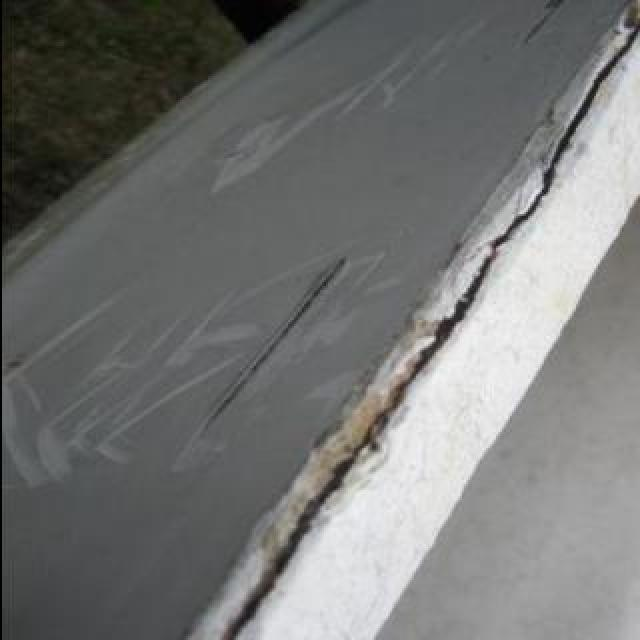crack: (212, 7, 640, 640), (171, 255, 355, 467), (509, 1, 569, 59)
